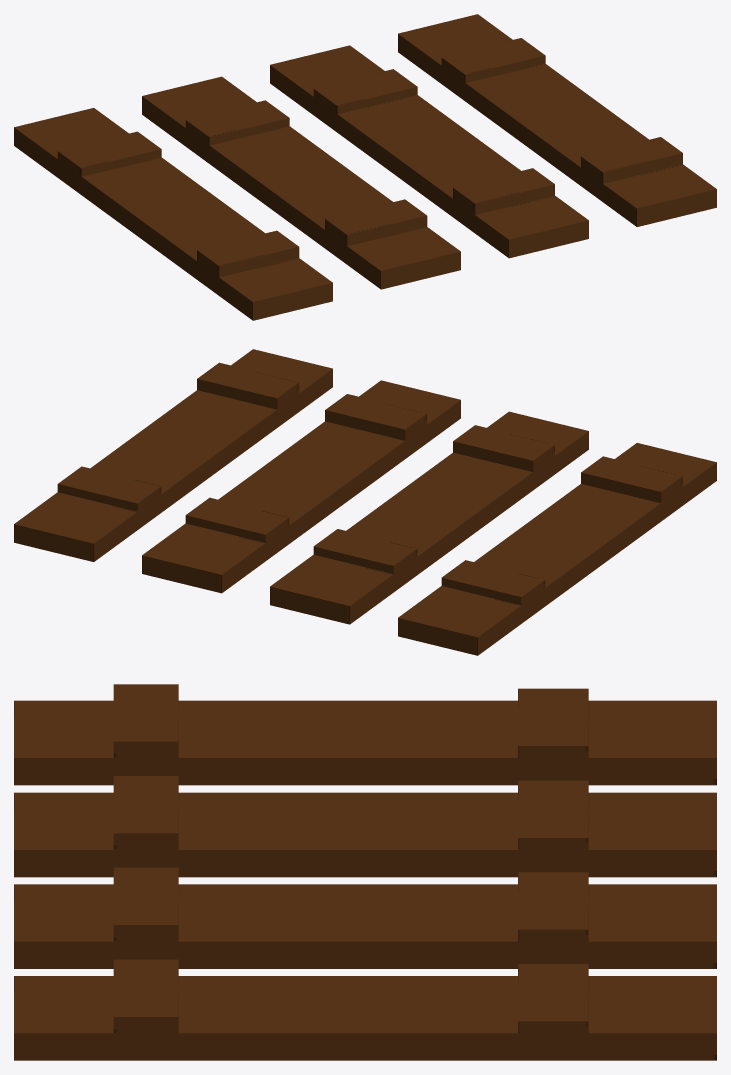
Rendered from traintrack.fbx.
3 renders of one model, top to bottom at view 1: azimuth 30°, elevation 25°; view 2: azimuth 150°, elevation 25°; view 3: azimuth 270°, elevation 25°, orthographic. The views are drawn at different scales.
Visible parts, largest first — view 1: Cube.001; view 2: Cube.001; view 3: Cube.001.
Part boxes in pixels (x1,y1,x2,y2): Cube.001: (14, 14, 716, 320); Cube.001: (14, 349, 716, 655); Cube.001: (14, 684, 716, 1060).
Bounding box in the file's own units: 1160 × 71.26 × 1036.
1 material, 1 textured.
